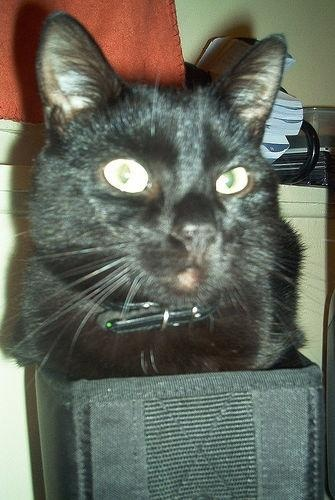cat: (15, 15, 302, 369)
